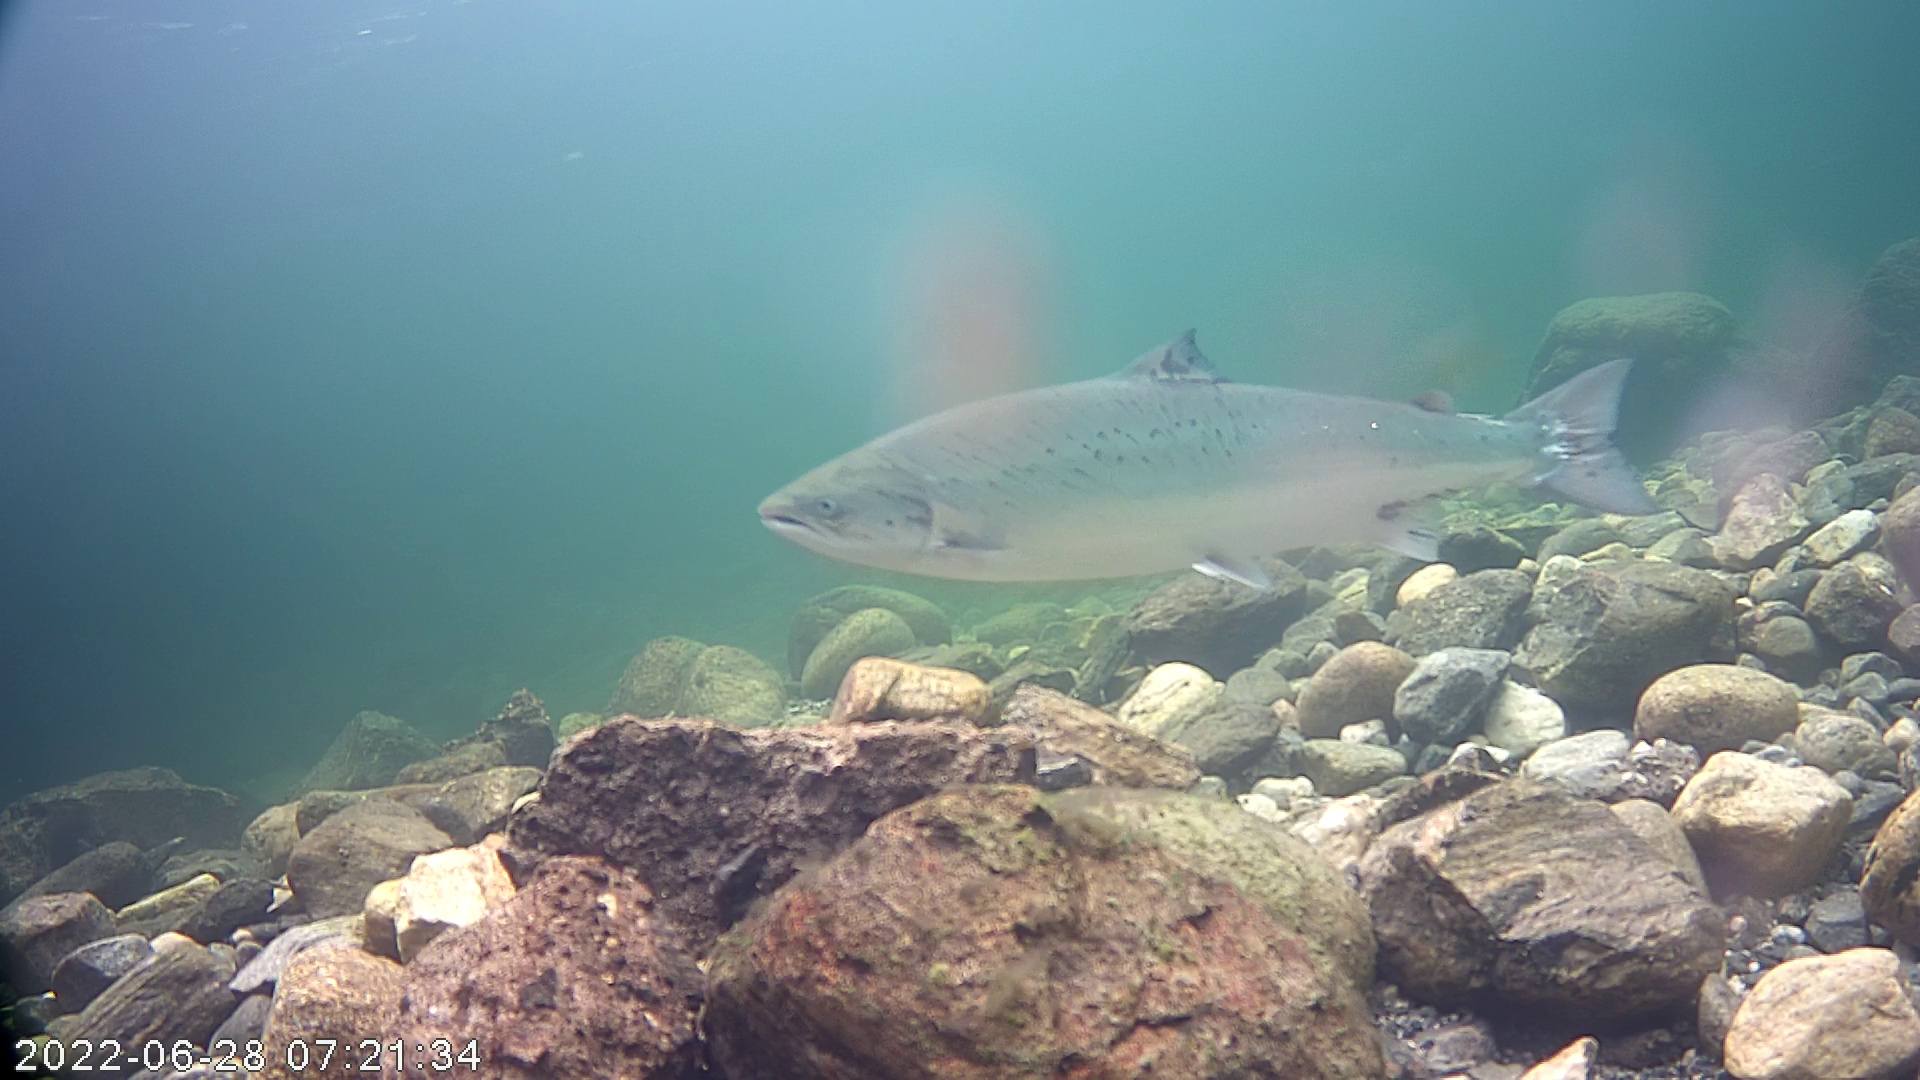salmon: (746, 243, 1681, 630)
